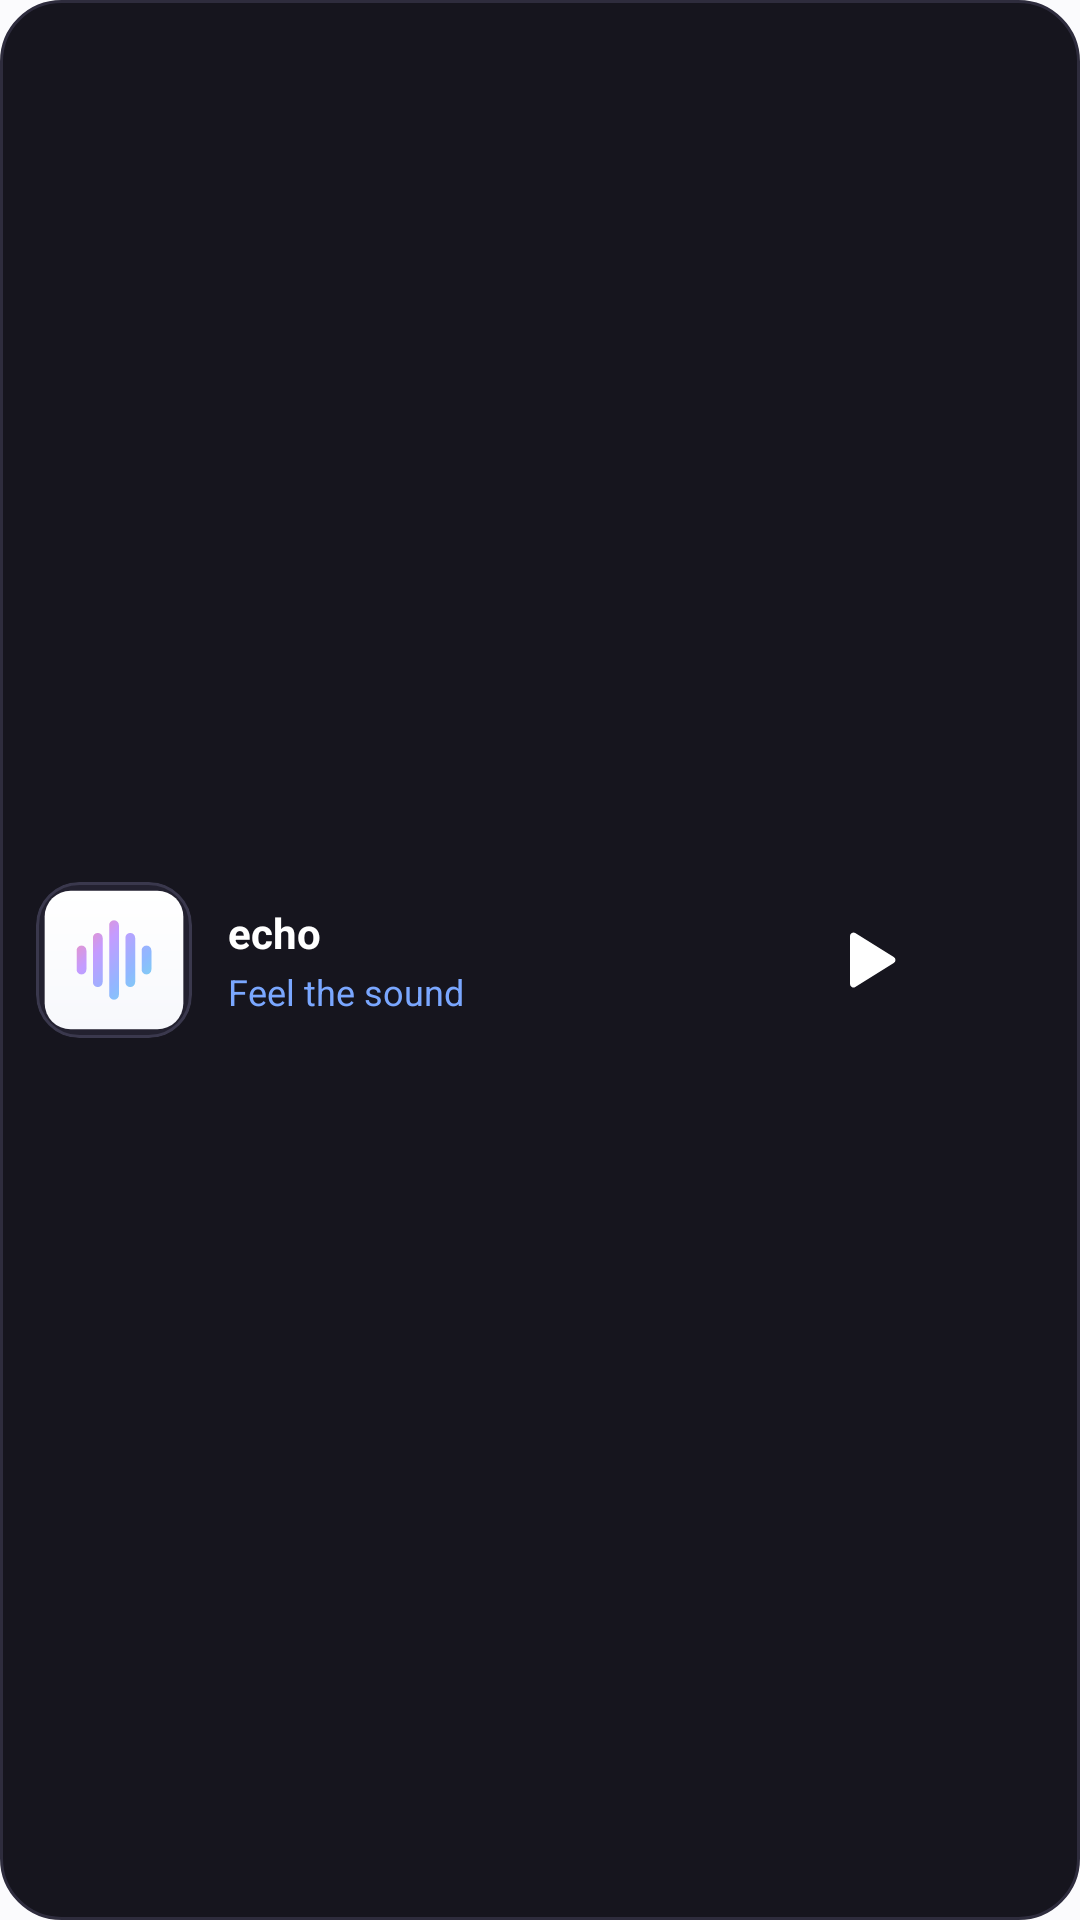

Named icons in this screenshot (1080 x 1920) and their centers, (x=x, y=y):
Album Art: (x=114, y=960)
Play or Pause: (x=873, y=960)
